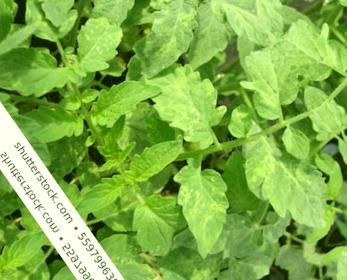Tomato leaf mosaic virus: (227, 116, 347, 248), (127, 31, 242, 158), (150, 149, 256, 263), (0, 23, 83, 125), (119, 0, 212, 82), (224, 38, 309, 126), (159, 0, 251, 80), (51, 4, 139, 87), (116, 184, 199, 270), (81, 63, 167, 140), (120, 126, 195, 192), (71, 168, 135, 225), (274, 121, 316, 166), (148, 257, 212, 280)
